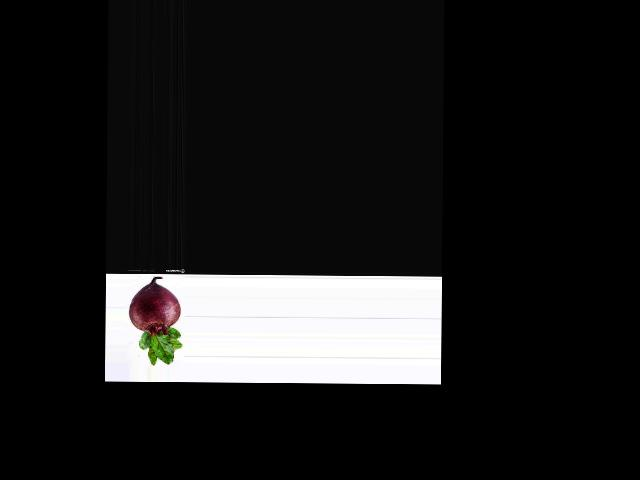beet: (128, 277, 182, 365)
